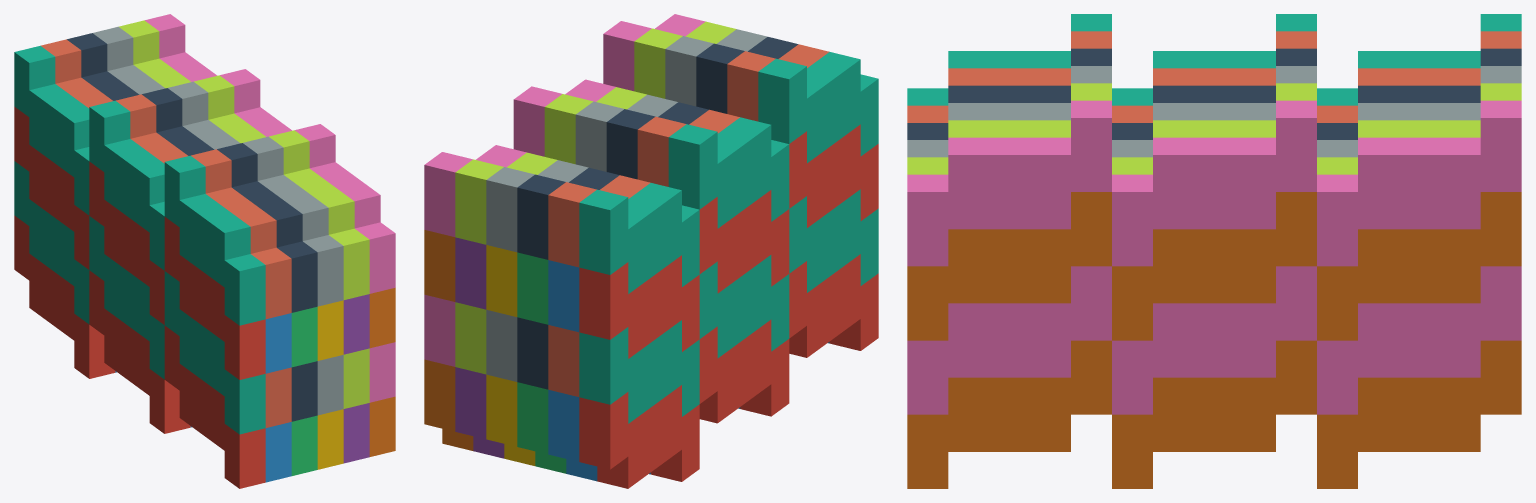
Rendered from tiling.obj.
The picture shows the model from 3 angles, left to right: view 1: azimuth 30°, elevation 25°; view 2: azimuth 150°, elevation 25°; view 3: azimuth 270°, elevation 25°; orthographic projection. The views are drawn at different scales.
Visible parts, largest first — view 1: copy_67, copy_139, copy_115, copy_91, copy_55, copy_61, copy_49, copy_19, copy_43, copy_68, copy_69, copy_70 (+47 smaller); view 2: copy_91, copy_115, copy_139, copy_73, copy_79, copy_85, copy_43, copy_67, copy_19, copy_25, copy_49, copy_1 (+57 smaller); view 3: copy_96, copy_120, copy_144, copy_72, copy_24, copy_48, copy_84, copy_60, copy_66, copy_54, copy_78, copy_90 (+42 smaller).
Part boxes in pixels (<box>): copy_67: <box>194,216,265,325</box>; copy_139: <box>164,155,235,265</box>; copy_115: <box>89,100,159,209</box>; copy_91: <box>14,45,84,154</box>; copy_55: <box>194,331,265,434</box>; copy_61: <box>194,277,265,379</box>; copy_49: <box>194,386,265,488</box>; copy_19: <box>44,106,89,215</box>; copy_43: <box>119,161,164,270</box>; copy_68: <box>236,209,291,319</box>; copy_69: <box>262,203,317,312</box>; copy_70: <box>288,197,343,306</box>; copy_91: <box>579,189,663,293</box>; copy_115: <box>668,124,753,228</box>; copy_139: <box>758,58,842,163</box>; copy_73: <box>579,392,663,488</box>; copy_79: <box>579,327,663,423</box>; copy_85: <box>579,262,663,358</box>; copy_43: <box>723,117,789,221</box>; copy_67: <box>812,52,878,156</box>; copy_19: <box>633,183,699,286</box>; copy_25: <box>735,319,789,416</box>; copy_49: <box>825,254,878,350</box>; copy_1: <box>646,385,699,481</box>; copy_96: <box>1398,100,1521,229</box>; copy_120: <box>1194,100,1316,229</box>; copy_144: <box>989,100,1111,229</box>; copy_72: <box>907,137,1030,266</box>; copy_24: <box>1317,137,1439,266</box>; copy_48: <box>1112,137,1234,266</box>; copy_84: <box>1398,266,1521,377</box>; copy_60: <box>907,303,1030,414</box>; copy_66: <box>907,229,1030,340</box>; copy_54: <box>907,377,1030,488</box>; copy_78: <box>1398,340,1521,451</box>; copy_90: <box>1398,192,1521,303</box>.
Bounding box in the file's own units: 6 × 10 × 15.
